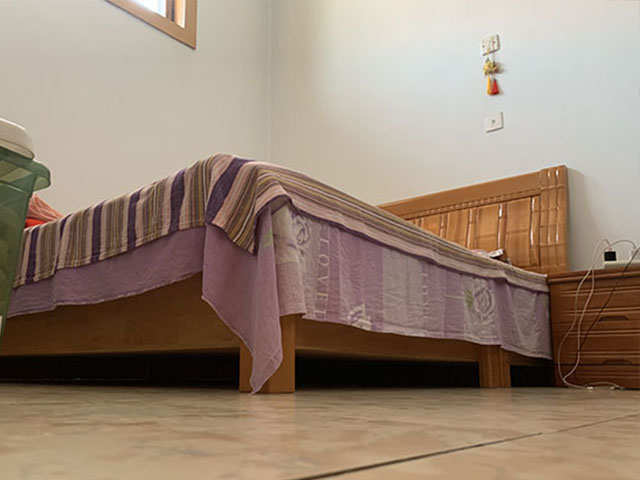bed: (1, 150, 573, 398)
cabinet: (545, 262, 640, 393)
wire: (557, 264, 596, 392)
